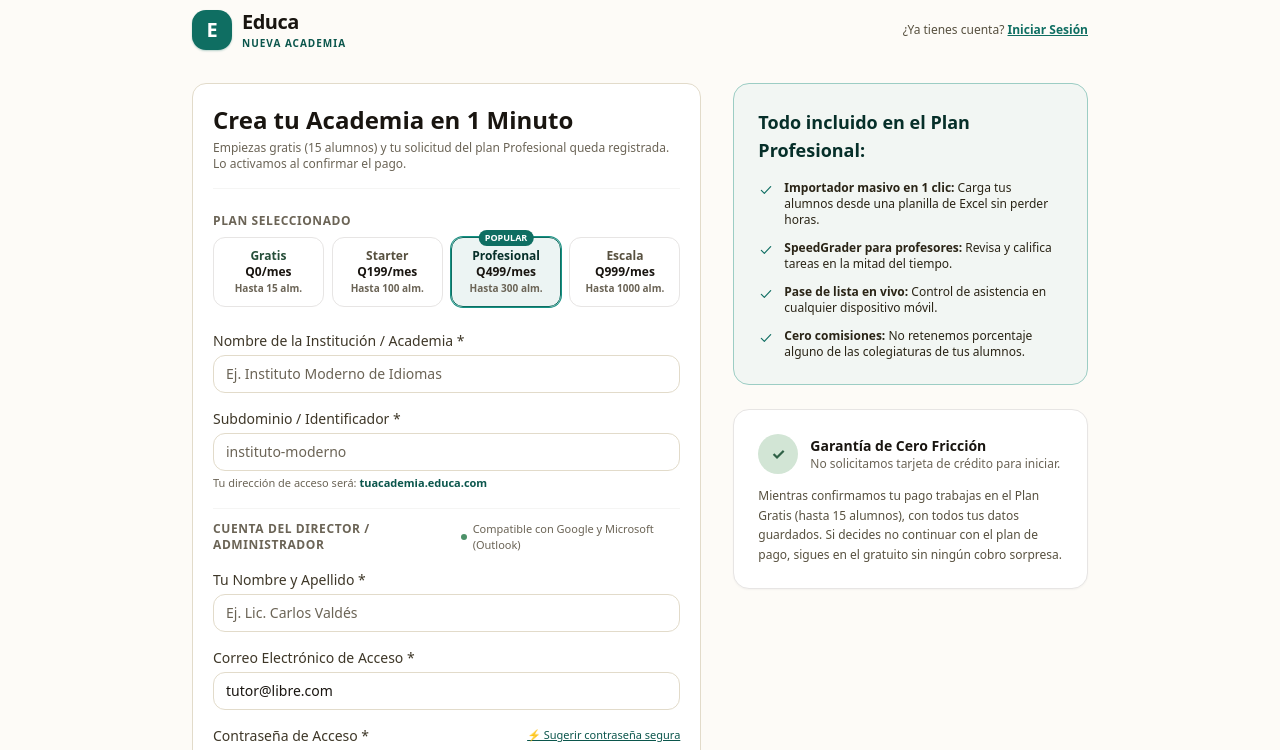
RegisterAcademy › does not create the academy until the terms are accepted
Type "Academia Exito" into the field with placeholder "Ej. Instituto Moderno de Idiomas" at {"x": 447, "y": 374}, box [213,355,680,393]
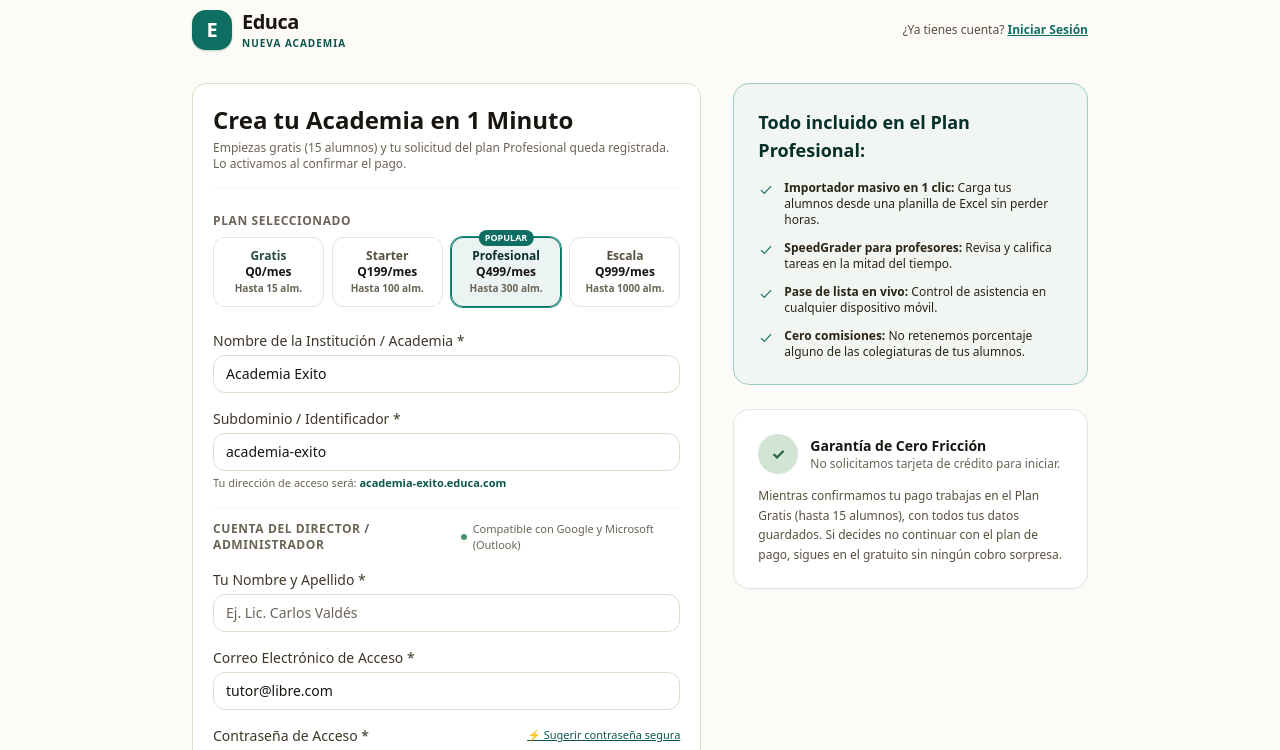
Type "Juan Perez" into the field with placeholder "Ej. Lic. Carlos Valdés" at {"x": 447, "y": 612}, box [213,594,680,632]
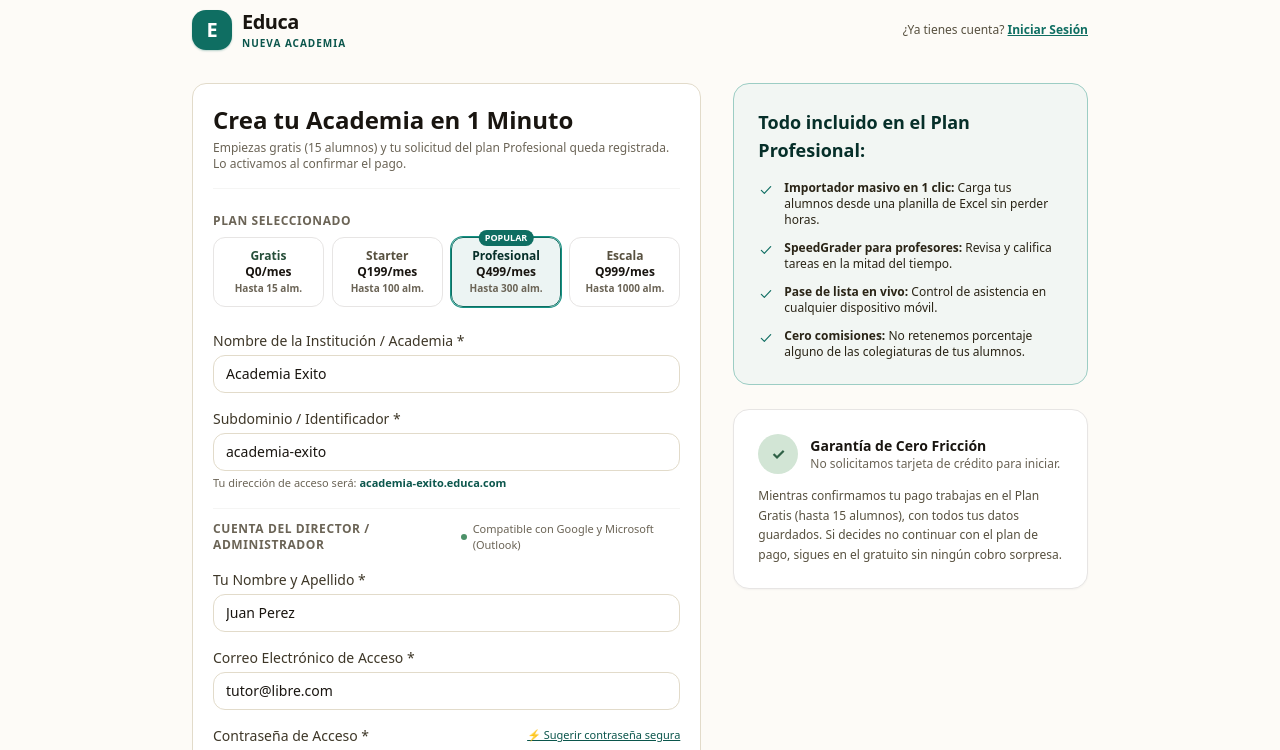
Replace the text in the field with placeholder "direccion@tuacademia.com" below "Correo Electrónico de Acceso *" with "director@exito.com" at {"x": 447, "y": 690}, box [213,672,680,710]
(page scrolled)
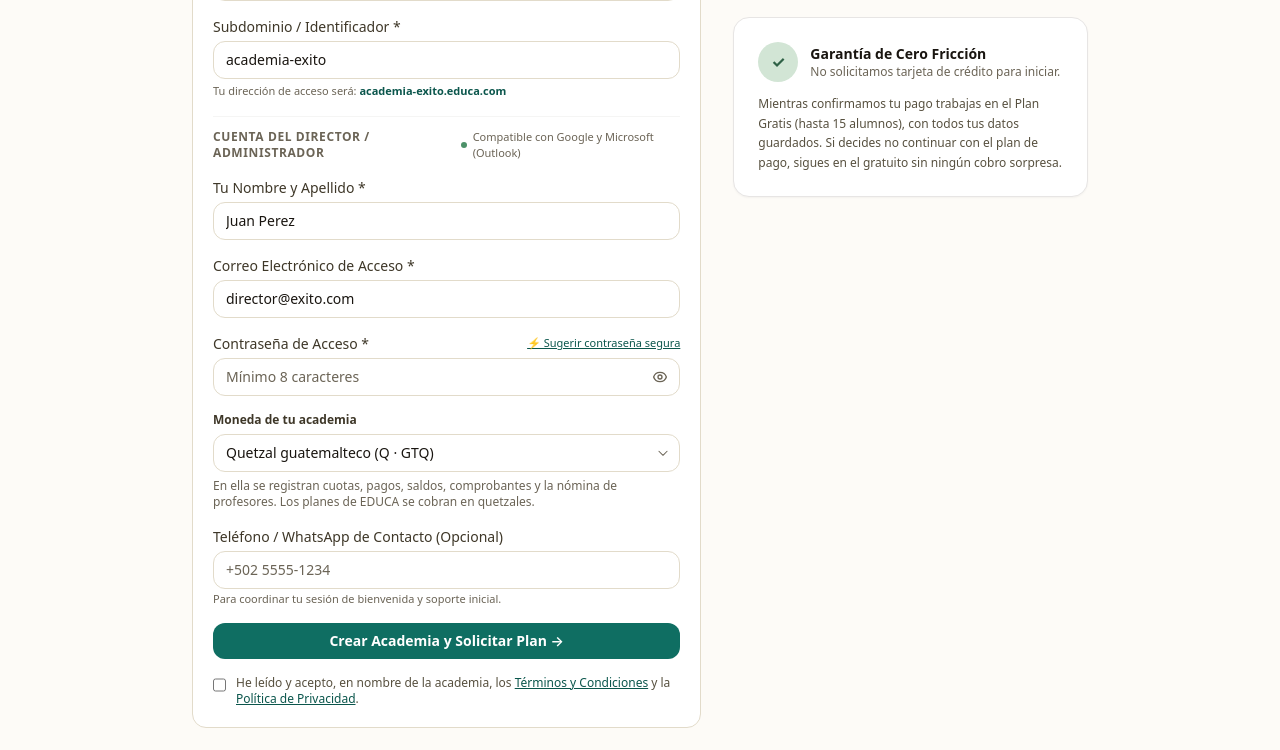
Type "secret1234" into the password field with placeholder "Mínimo 8 caracteres" at {"x": 447, "y": 376}, box [213,358,680,396]
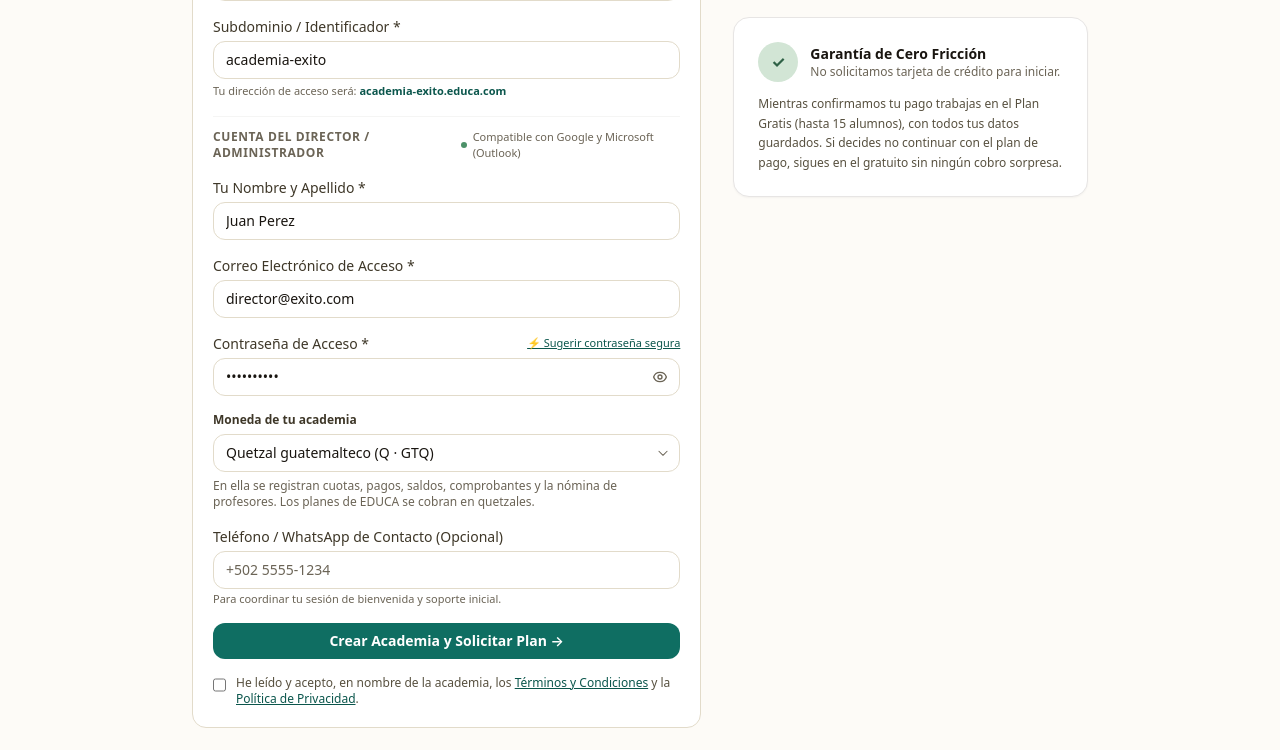
Click the button "Crear Academia y Solicitar Plan →" at {"x": 447, "y": 641}, box [213,623,680,659]
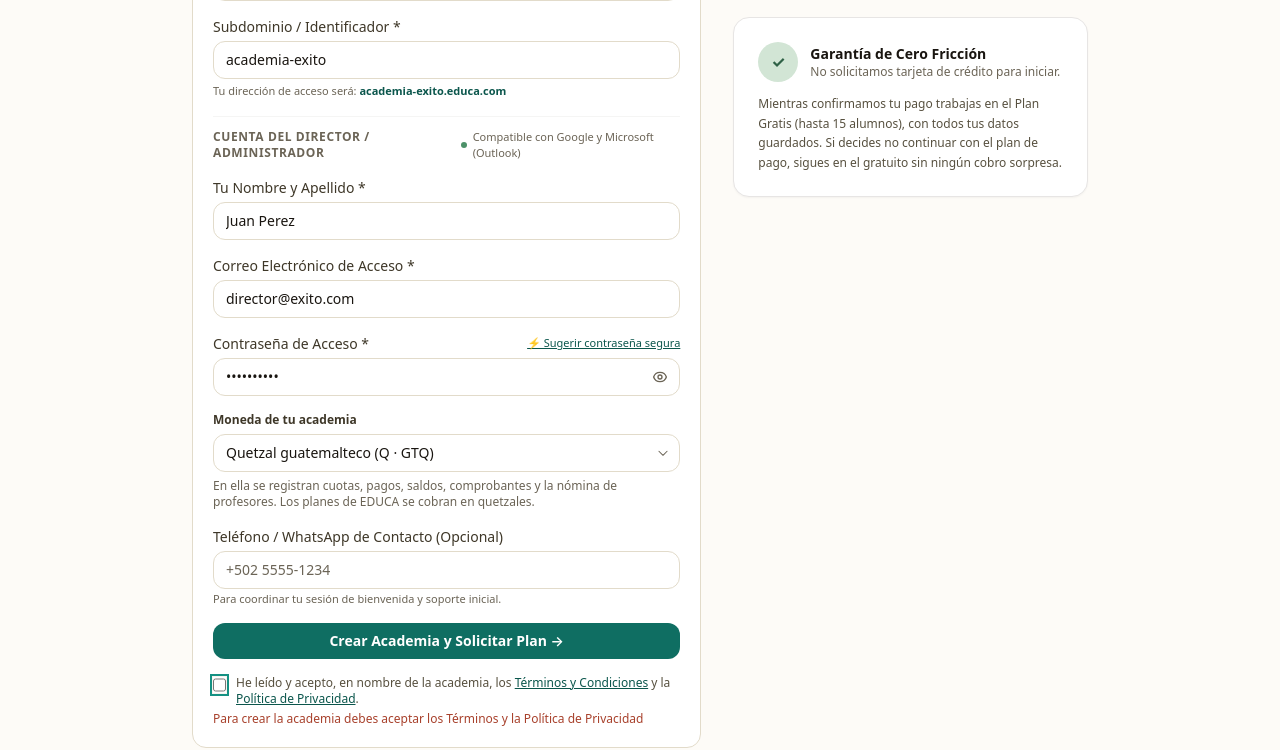
Check: the text "debes aceptar los Términos" is shown, box [213,710,643,727]
